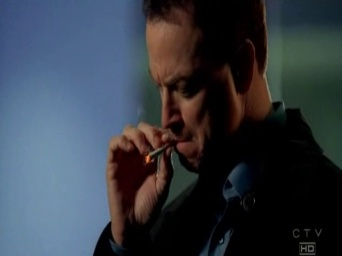smoke: (144, 142, 172, 161)
